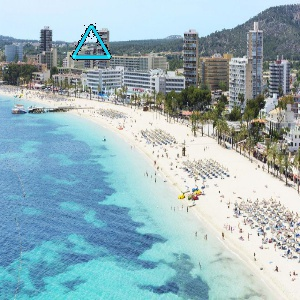triangle: (70, 20, 114, 64)
